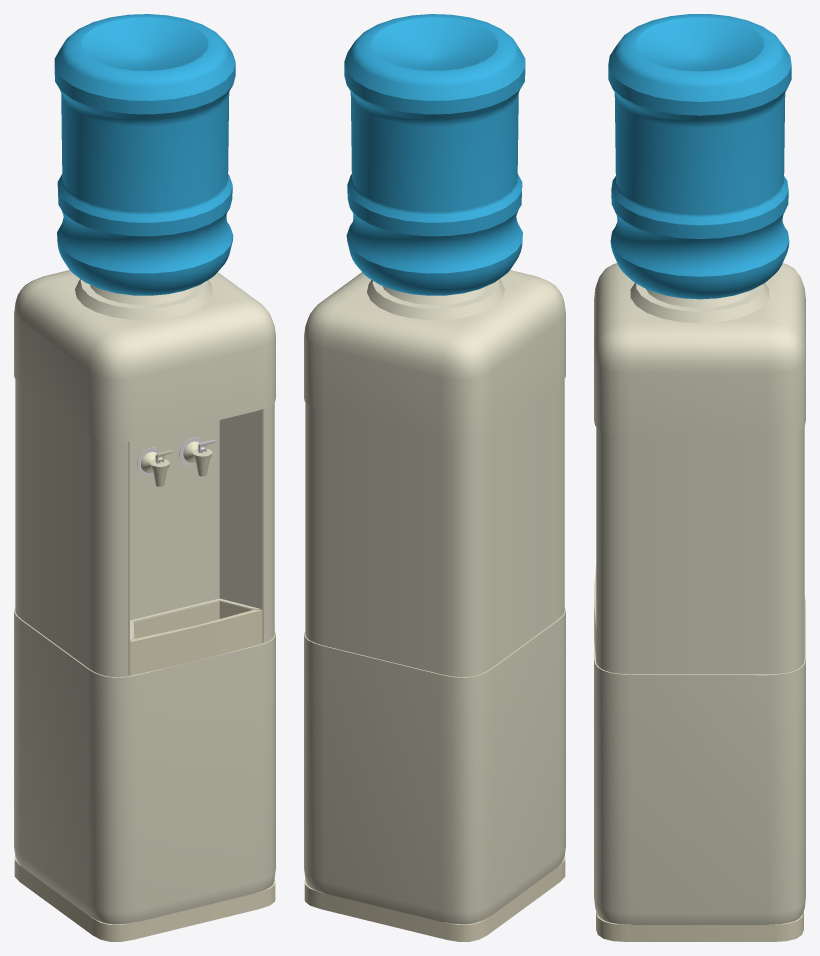
The model's file is WaterDispenser 1.fbx.
3 renders of one model, left to right at view 1: azimuth 30°, elevation 25°; view 2: azimuth 150°, elevation 25°; view 3: azimuth 270°, elevation 25°, orthographic.
Visible parts, largest first — view 1: Plastic 01, Bottle, Plastic 02, Part 1; view 2: Plastic 01, Bottle, Plastic 02; view 3: Plastic 01, Bottle, Plastic 02.
Boxes of the visible parts, <box> form: Plastic 01: <box>14,270,275,924</box>; Bottle: <box>54,14,235,295</box>; Plastic 02: <box>14,601,275,941</box>; Part 1: <box>141,441,212,486</box>; Plastic 01: <box>304,270,565,924</box>; Bottle: <box>344,14,525,295</box>; Plastic 02: <box>304,855,565,941</box>; Plastic 01: <box>594,263,805,924</box>; Bottle: <box>608,14,791,299</box>; Plastic 02: <box>594,564,803,941</box>.
Size of the model in its own units: 28.11 by 124 by 28.
